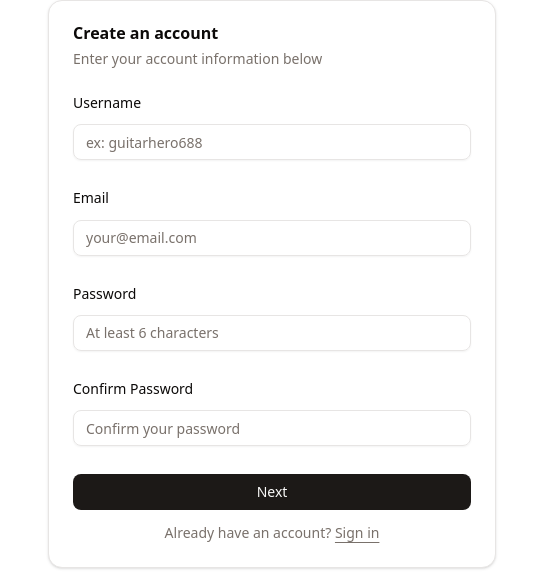
Test case: RegisterForm › should render all form elements for step 2
In the field labelled "Username": {"x": 272, "y": 142} [73,124,471,160], type "test123"
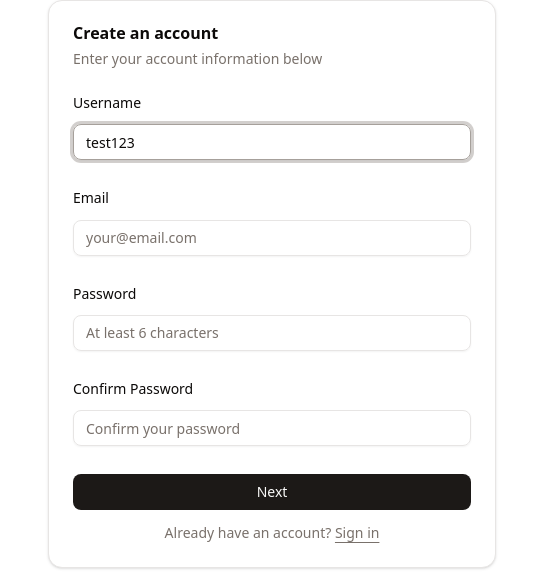
In the field labelled "Email": {"x": 272, "y": 238} [73,220,471,256], type "test123@gmail.com"
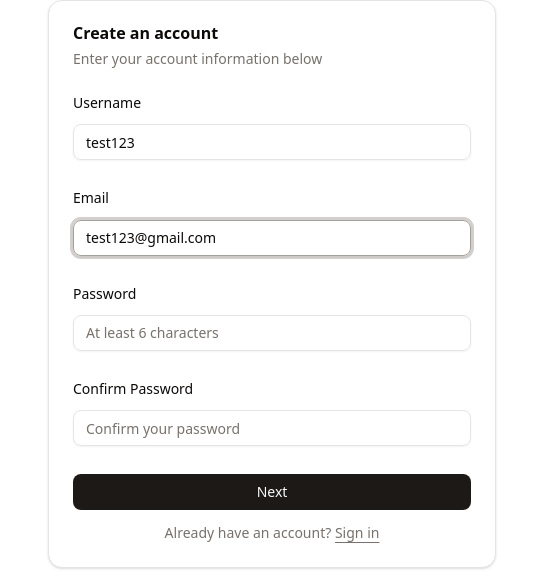
In the password field labelled "Password": {"x": 272, "y": 333} [73,315,471,351], type "test123"
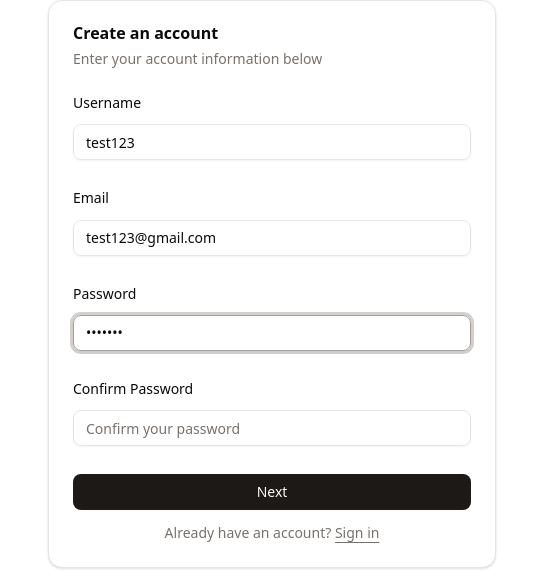
In the password field labelled "Confirm Password": {"x": 272, "y": 428} [73,410,471,446], type "test123"
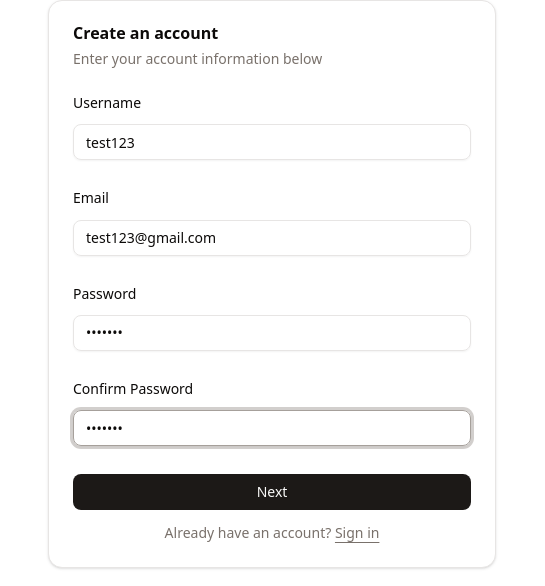
Click the button "Next": {"x": 272, "y": 492} [73,474,471,510]
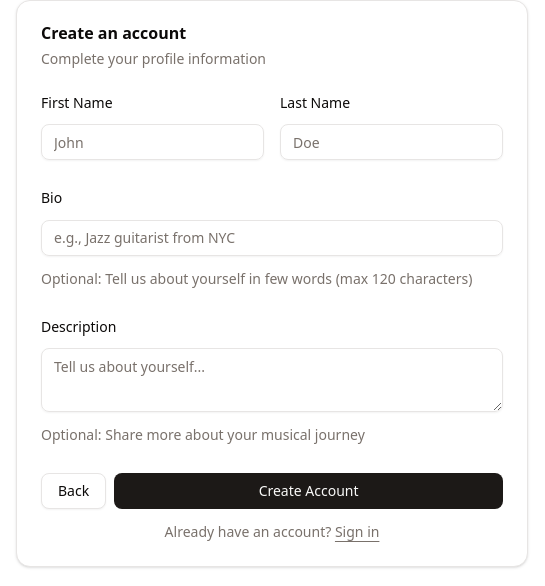
Expected: the text "Complete your profile information" is shown, [41,49,266,68]
Expected: the field labelled "First Name" is shown, [41,124,264,160]
Expected: the field labelled "Last Name" is shown, [280,124,503,160]
